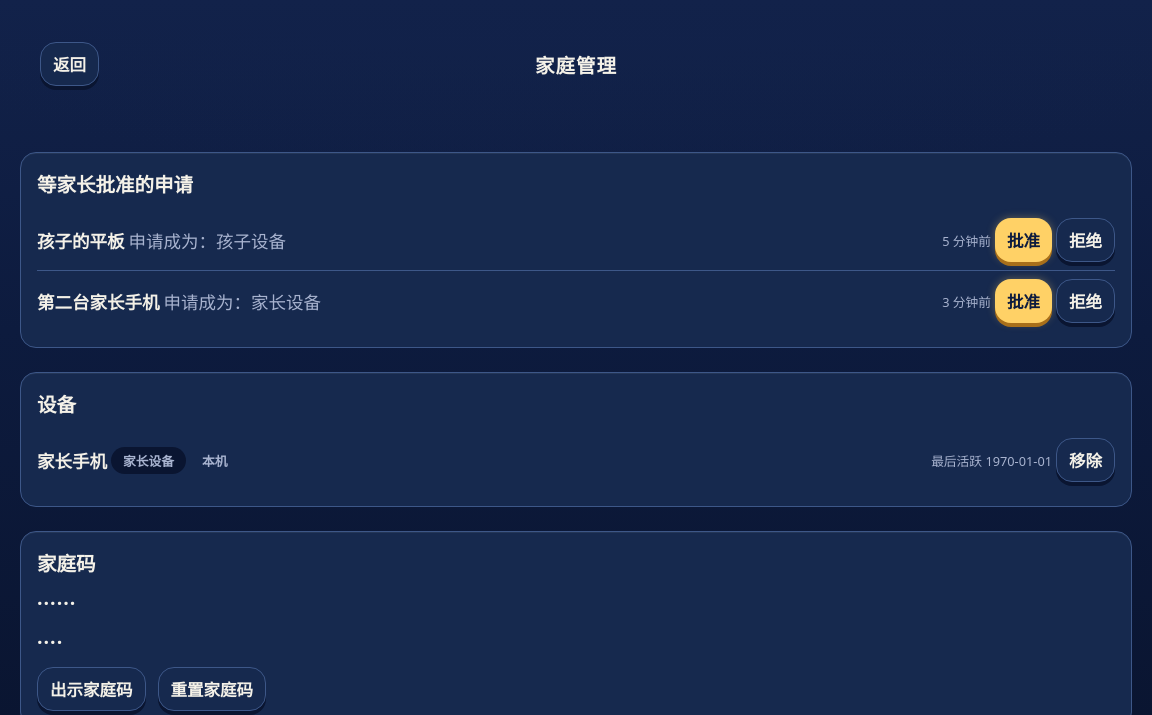
Test: #143 批准 / 拒绝流程（无二次确认） › 拒绝：点击即 POST reject（无确认弹窗）→ toast「已拒绝这次申请」→ 申请行消失
Click the button "拒绝" in the row of "5 分钟前": {"x": 1086, "y": 240} [1056,218,1115,262]
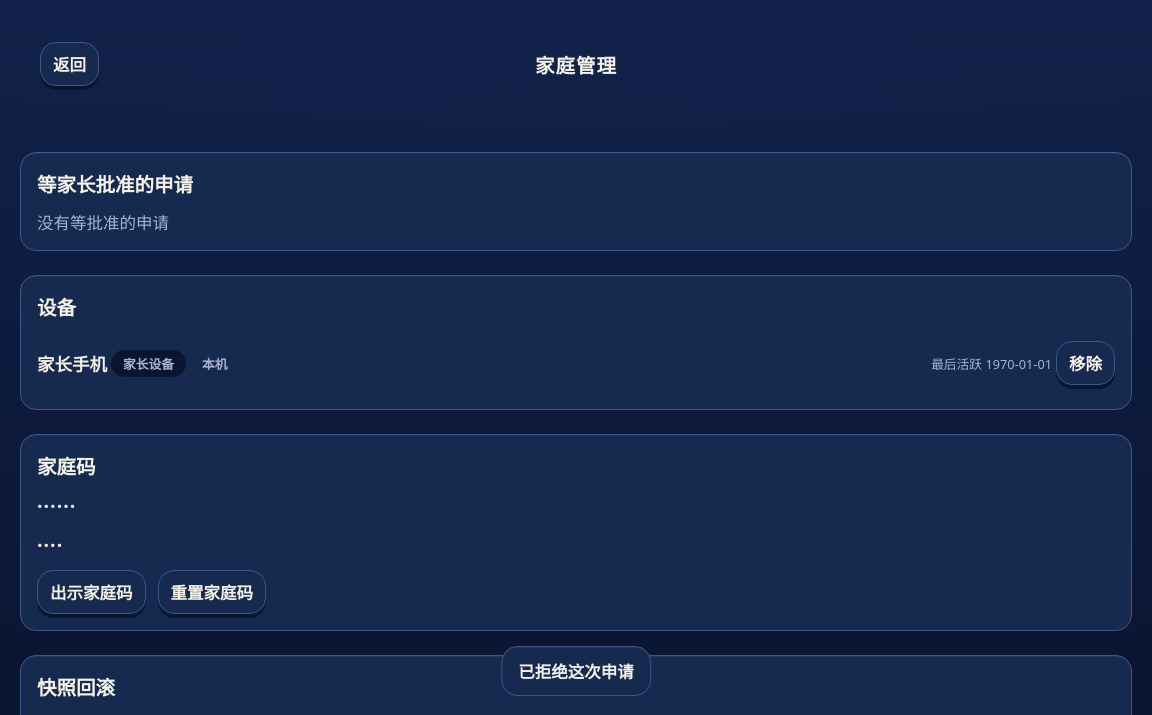
Expected: the message with class "toast" reads "已拒绝这次申请", [518,660,634,683]
Expected: the text "没有等批准的申请" is shown, [37,211,169,234]
